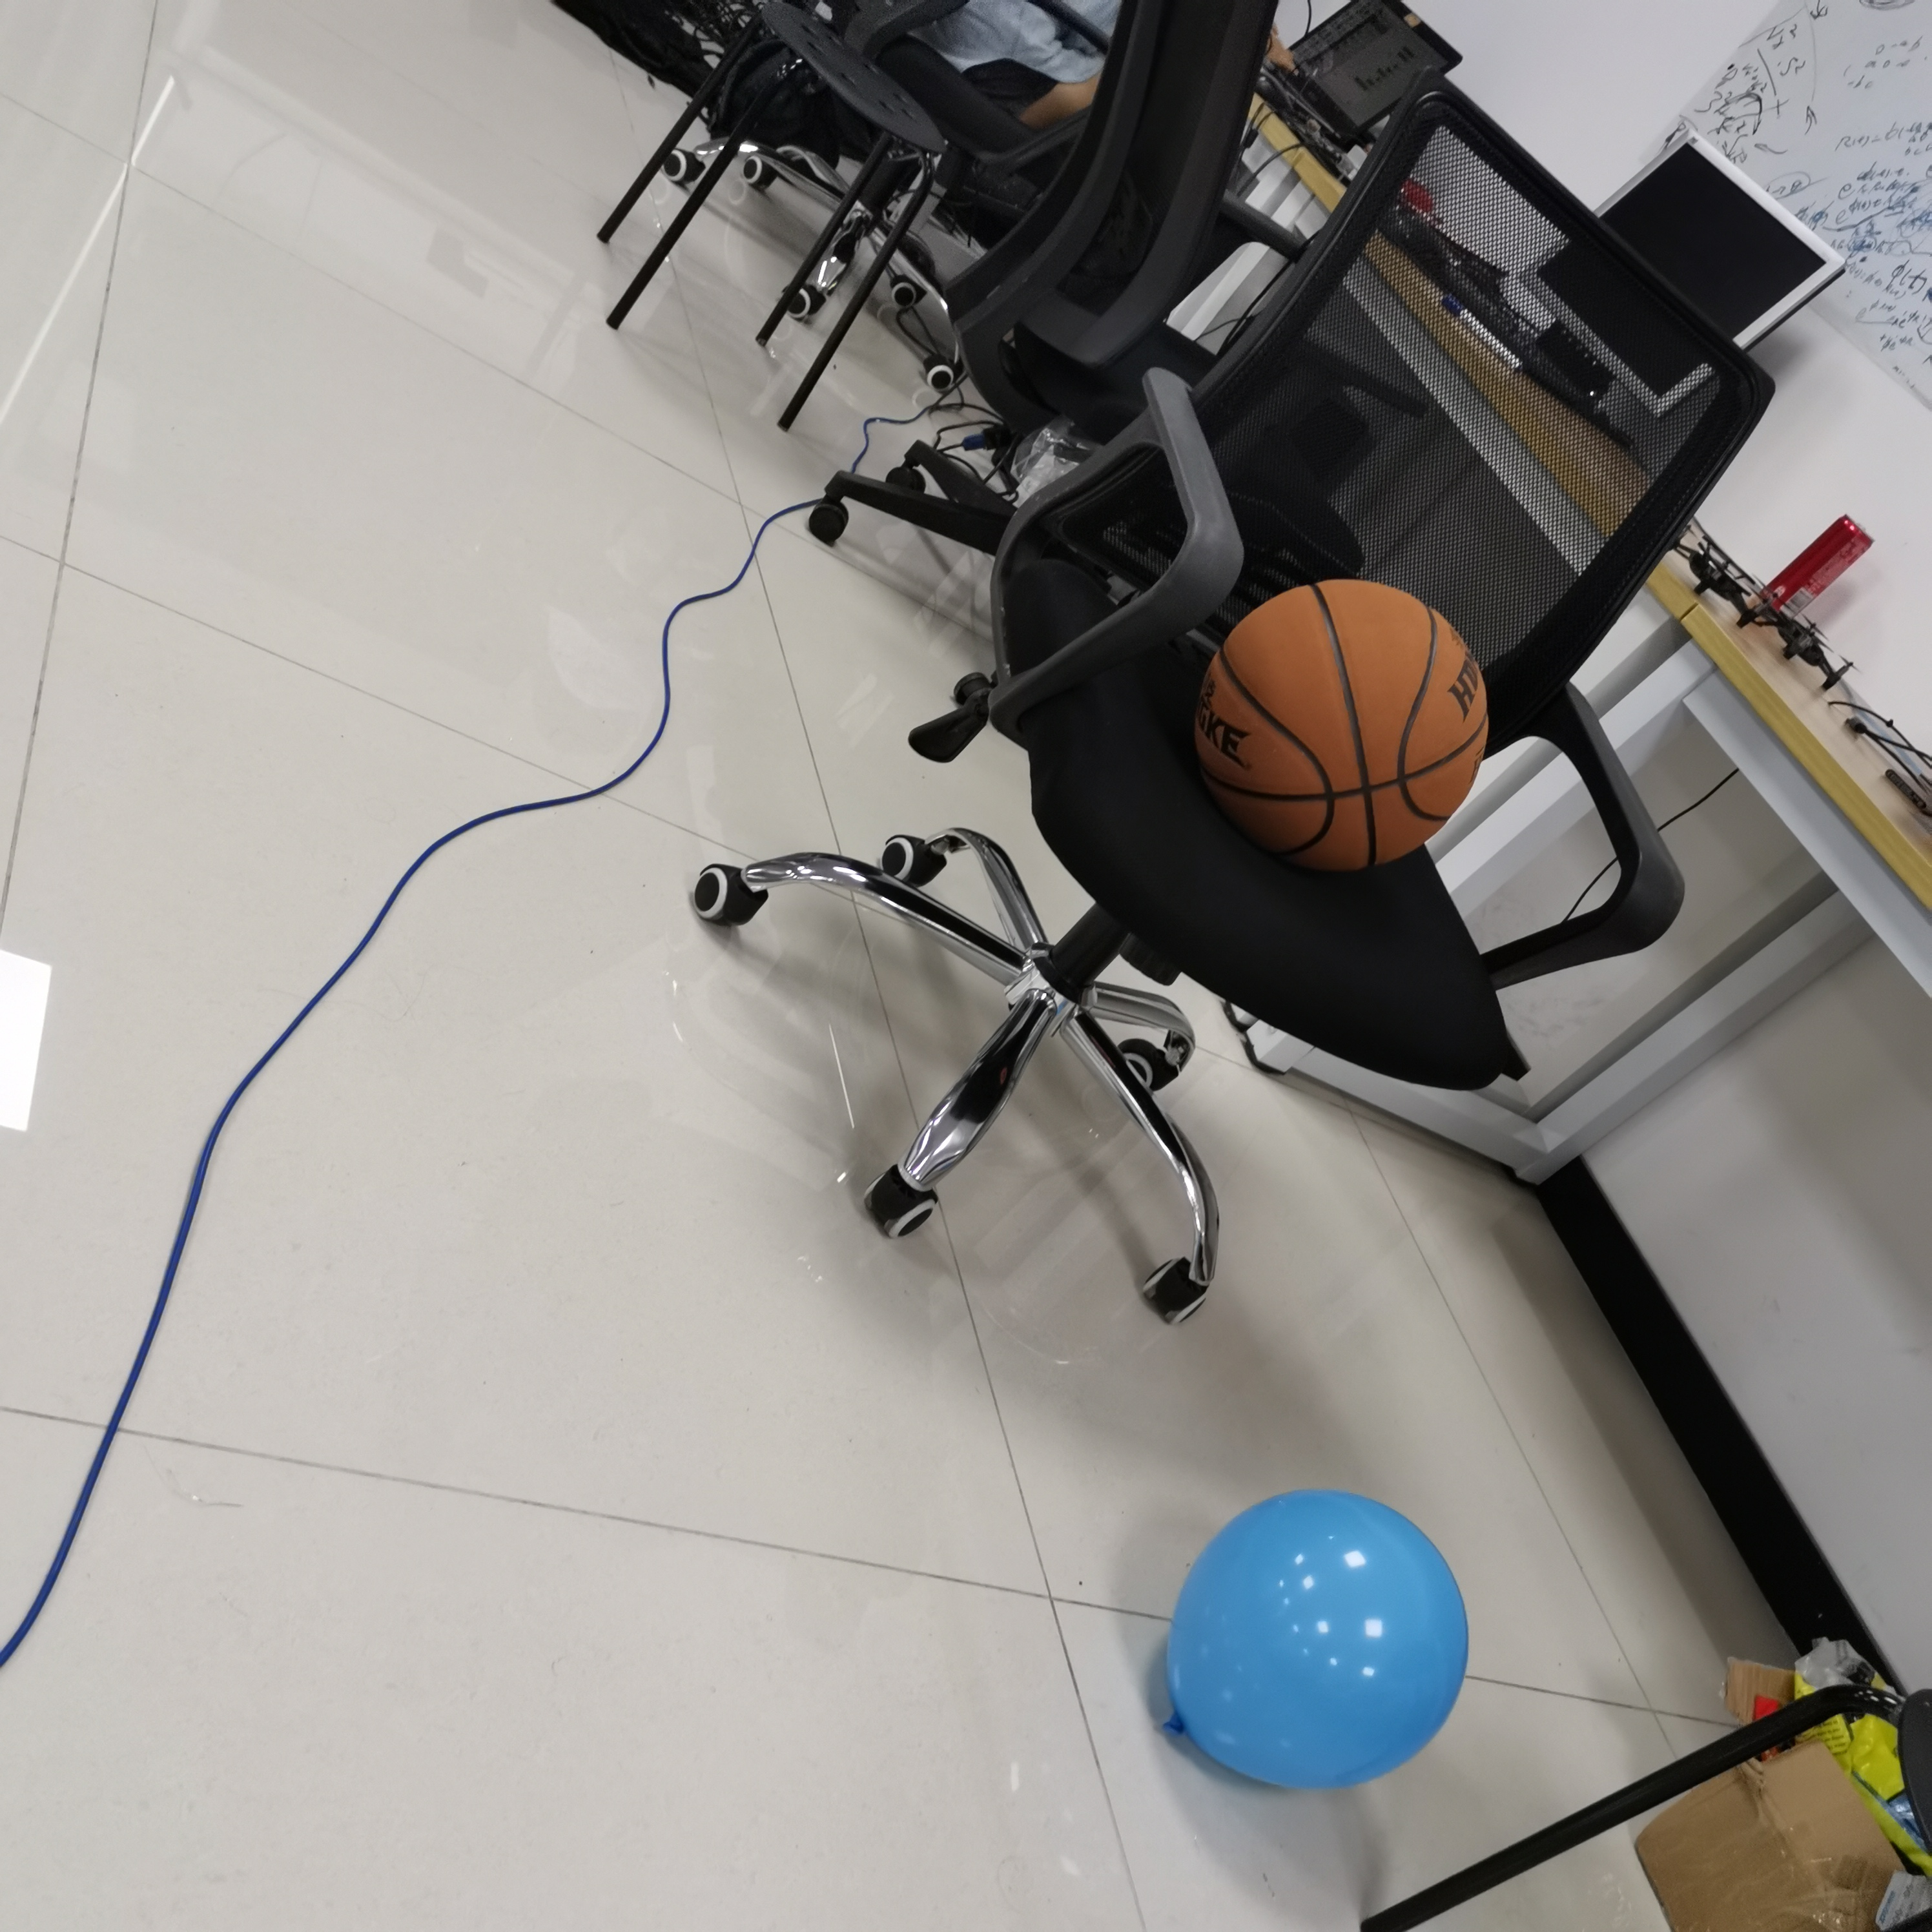balloon: (1164, 1490, 1468, 1789)
basketball: (1196, 580, 1490, 872)
